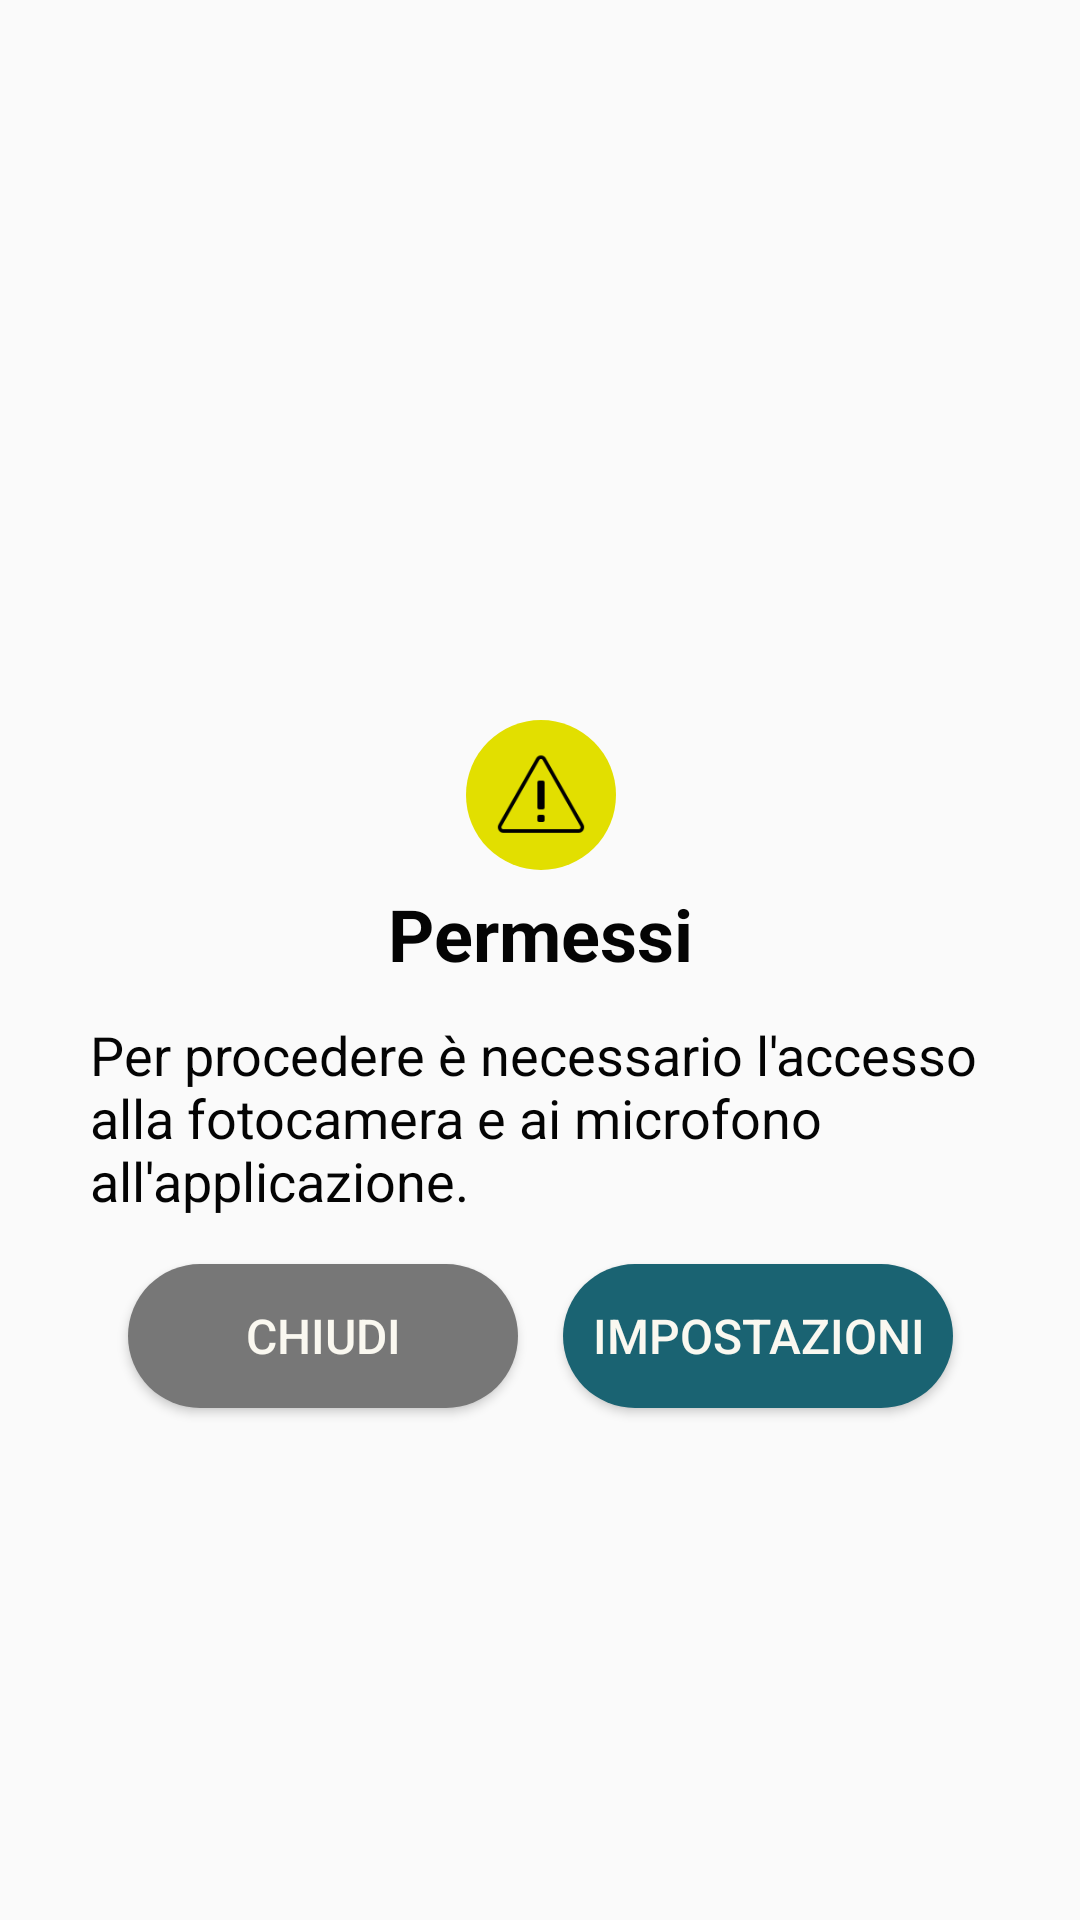

Where icons sit on this 1080*1920 app screen, as (x1, y1, x2, y2):
warning: (466, 720, 616, 870)
